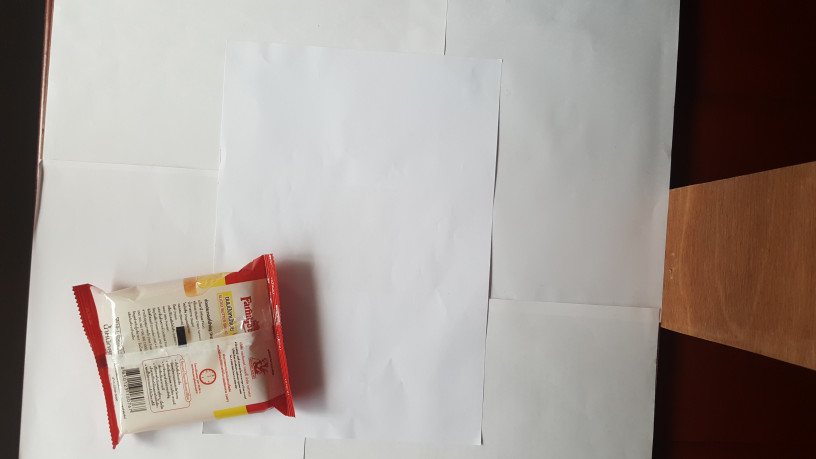farmhouse-bread-butter: (65, 254, 303, 453)
